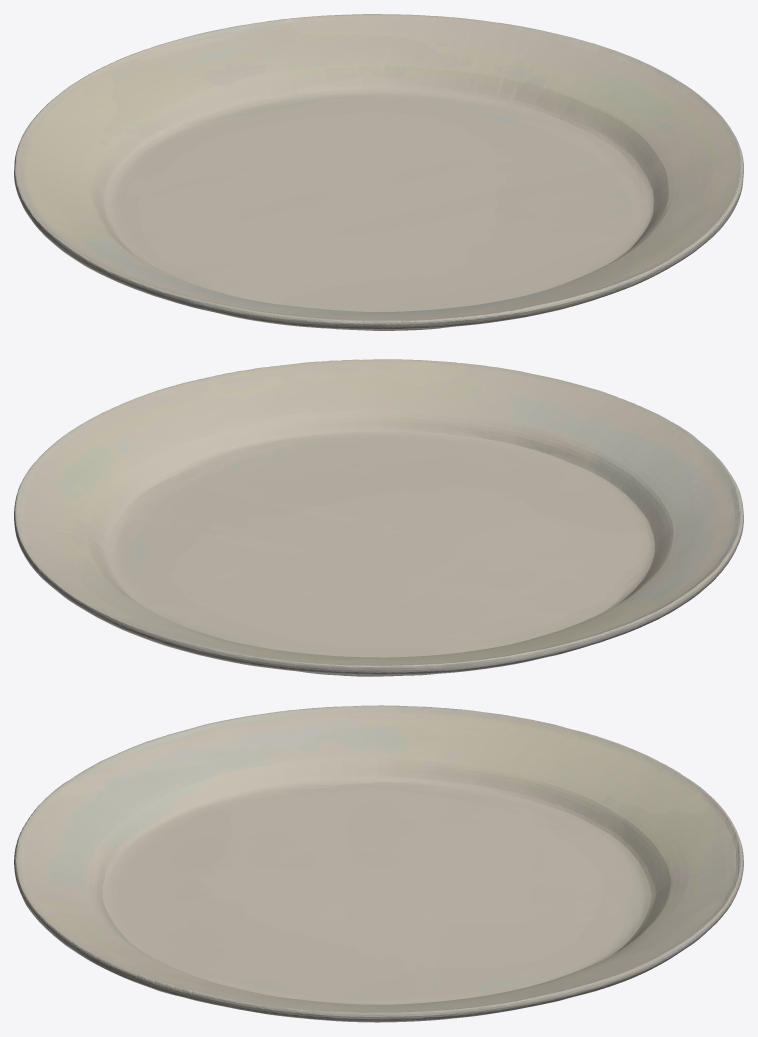
3 renders of one model, top to bottom at view 1: azimuth 30°, elevation 25°; view 2: azimuth 150°, elevation 25°; view 3: azimuth 270°, elevation 25°, orthographic.
Parts seen in each view (by area): view 1: plate.obj; view 2: plate.obj; view 3: plate.obj.
Boxes of the visible parts, x1,y1,x2,y2 form: plate.obj: (14,14,743,330); plate.obj: (14,359,743,676); plate.obj: (14,705,743,1022).
Size of the model in its own units: 0.3716 by 0.03 by 0.3715.
Materials: 1 (1 with a texture image).
